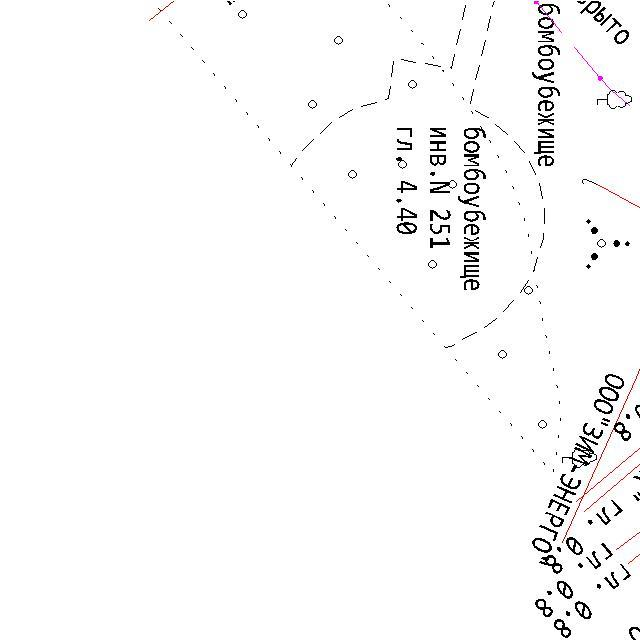tree: (595, 88, 634, 111), (561, 447, 599, 469)
